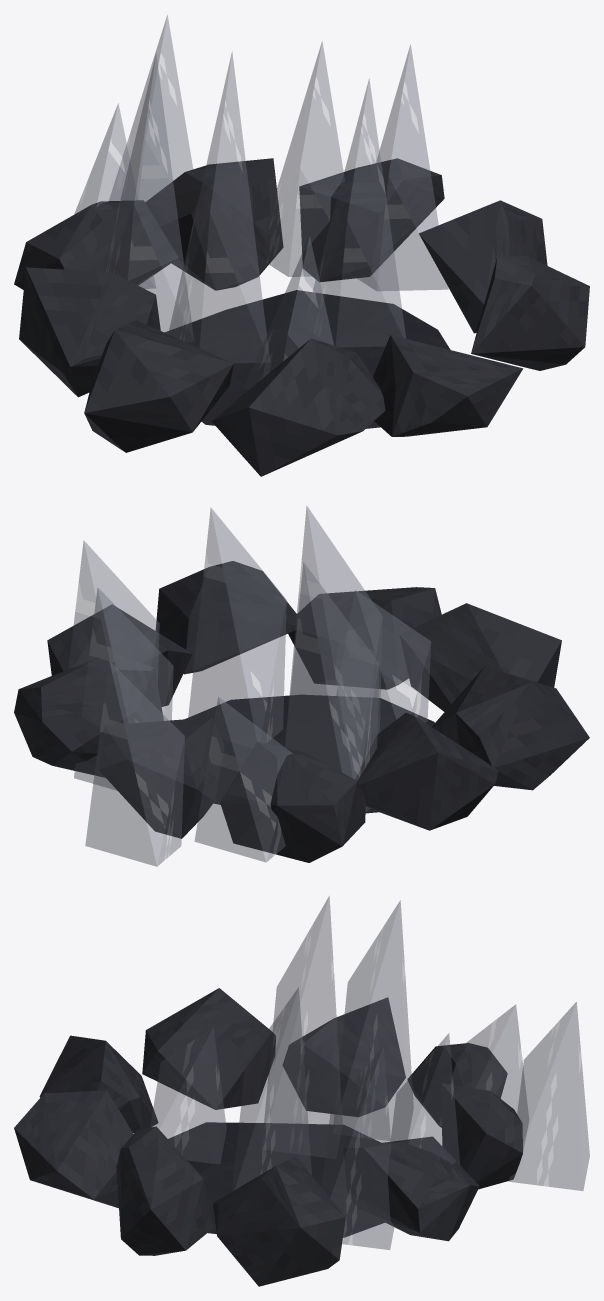
Rendered from f_vitrified_firering.glb.
3 views of the same model, one above another, from view 1: azimuth 30°, elevation 25°; view 2: azimuth 150°, elevation 25°; view 3: azimuth 270°, elevation 25° (orthographic). The views are drawn at different scales.
Visible parts, largest first — view 1: block_translucent-frozen-flame (×8), block_ash-bed, block_ring-stone-3, block_ring-stone-4, block_ring-stone-7, block_ring-stone-8, block_ring-stone-5, block_ring-stone-2, block_ring-stone-1, block_ring-stone-6, block_ring-stone-0; view 2: block_translucent-frozen-flame (×8), block_ring-stone-6, block_ring-stone-4, block_ring-stone-8, block_ring-stone-7, block_ash-bed, block_ring-stone-2, block_ring-stone-5, block_ring-stone-1, block_ring-stone-3, block_ring-stone-0; view 3: block_translucent-frozen-flame (×8), block_ring-stone-0, block_ring-stone-4, block_ash-bed, block_ring-stone-5, block_ring-stone-8, block_ring-stone-2, block_ring-stone-1, block_ring-stone-7, block_ring-stone-3, block_ring-stone-6.
Part boxes in pixels (<box>): block_translucent-frozen-flame (×8): <box>74,15,448,390</box>; block_ash-bed: <box>165,290,450,428</box>; block_ring-stone-3: <box>211,338,385,476</box>; block_ring-stone-4: <box>84,320,233,452</box>; block_ring-stone-7: <box>145,158,283,290</box>; block_ring-stone-8: <box>299,158,444,281</box>; block_ring-stone-5: <box>19,267,160,397</box>; block_ring-stone-2: <box>373,335,523,436</box>; block_ring-stone-1: <box>471,256,589,370</box>; block_ring-stone-6: <box>14,200,178,289</box>; block_ring-stone-0: <box>419,200,547,333</box>; block_translucent-frozen-flame (×8): <box>68,506,431,866</box>; block_ring-stone-6: <box>220,742,365,862</box>; block_ring-stone-4: <box>432,666,589,790</box>; block_ring-stone-8: <box>14,652,163,777</box>; block_ring-stone-7: <box>99,717,224,838</box>; block_ash-bed: <box>185,695,434,813</box>; block_ring-stone-2: <box>288,587,441,689</box>; block_ring-stone-5: <box>355,713,498,830</box>; block_ring-stone-1: <box>155,561,305,674</box>; block_ring-stone-3: <box>399,603,561,711</box>; block_ring-stone-0: <box>47,604,192,706</box>; block_translucent-frozen-flame (×8): <box>150,896,589,1249</box>; block_ring-stone-0: <box>213,1156,345,1286</box>; block_ring-stone-4: <box>142,988,275,1109</box>; block_ash-bed: <box>168,1122,384,1237</box>; block_ring-stone-5: <box>283,997,405,1116</box>; block_ring-stone-8: <box>343,1136,479,1241</box>; block_ring-stone-2: <box>14,1090,133,1208</box>; block_ring-stone-1: <box>116,1126,213,1255</box>; block_ring-stone-7: <box>441,1083,522,1189</box>; block_ring-stone-3: <box>39,1035,158,1132</box>; block_ring-stone-6: <box>407,1043,507,1127</box>.
Size of the model in its own units: 0.7062 by 0.3904 by 0.7578.
Materials: 2 (2 with a texture image).
